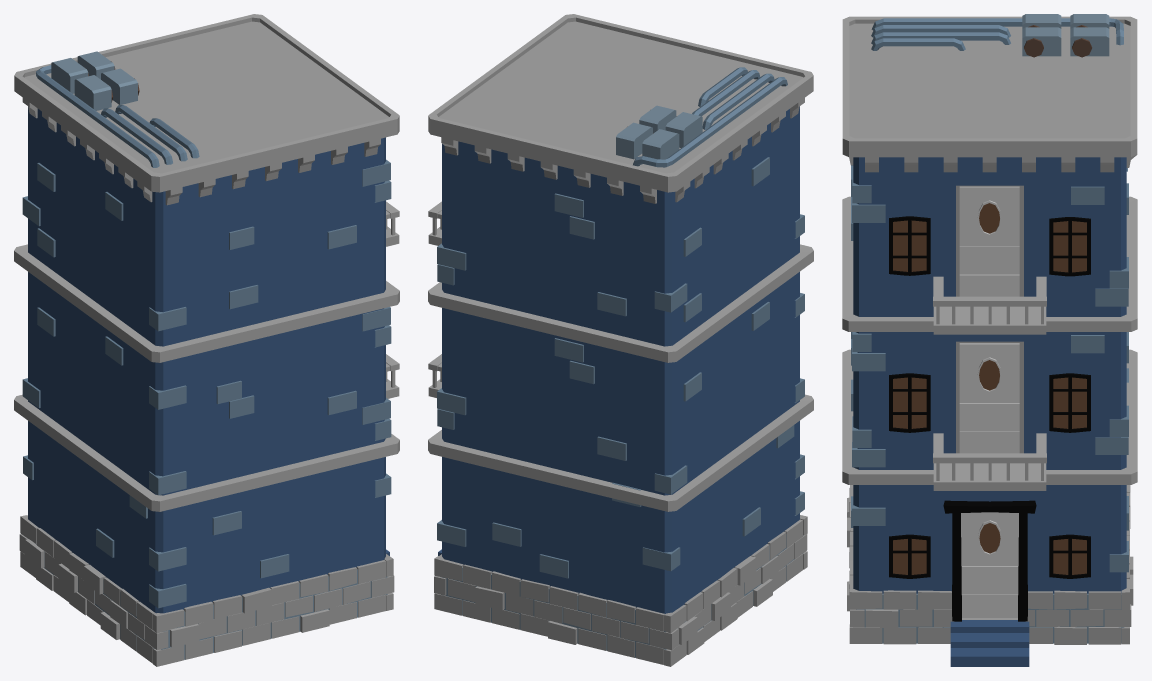
Rendered from Building6_Env.fbx.
3 renders of one model, left to right at view 1: azimuth 30°, elevation 25°; view 2: azimuth 150°, elevation 25°; view 3: azimuth 270°, elevation 25°, orthographic. The views are drawn at different scales.
Visible parts, largest first — view 1: 3Story_Balcony_Mat.002; view 2: 3Story_Balcony_Mat.002; view 3: 3Story_Balcony_Mat.002.
Boxes of the visible parts, box(x1,y1,x2,y2) form: 3Story_Balcony_Mat.002: box(14, 14, 399, 666); 3Story_Balcony_Mat.002: box(428, 14, 813, 666); 3Story_Balcony_Mat.002: box(842, 14, 1137, 666).
Size of the model in its own units: 251 by 421 by 216.
